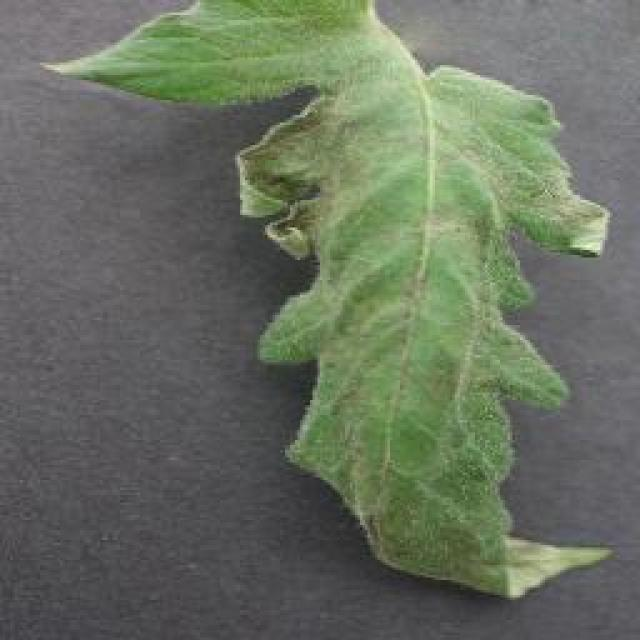Tomato Late Blight: (245, 120, 390, 545)
